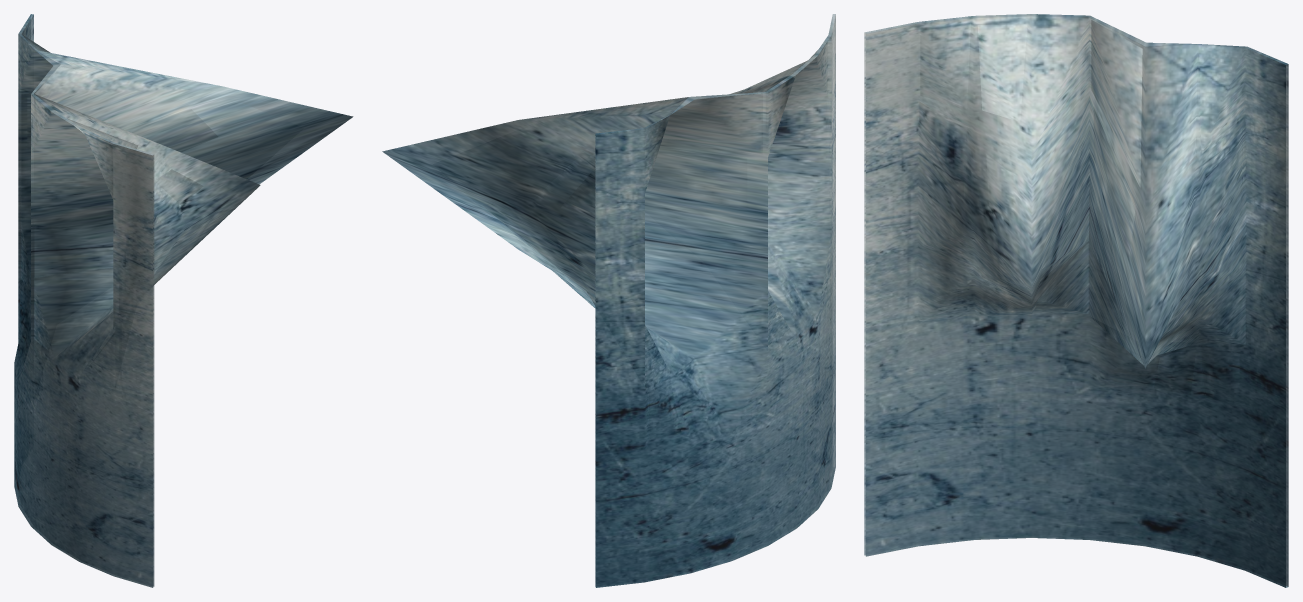
File: Model_IstappRør.FBX
3 views of the same model, side by side, from view 1: azimuth 30°, elevation 25°; view 2: azimuth 150°, elevation 25°; view 3: azimuth 270°, elevation 25° (orthographic). The views are drawn at different scales.
Visible parts, largest first — view 1: Cylinder001; view 2: Cylinder001; view 3: Cylinder001.
Boxes of the visible parts, left/top/right/bottom form: Cylinder001: left=14, top=14, right=353, bottom=587; Cylinder001: left=382, top=14, right=835, bottom=587; Cylinder001: left=864, top=14, right=1288, bottom=587.
Bounding box in the file's own units: 74.1 × 87.7 × 64.5.
Materials: 1 (1 with a texture image).
